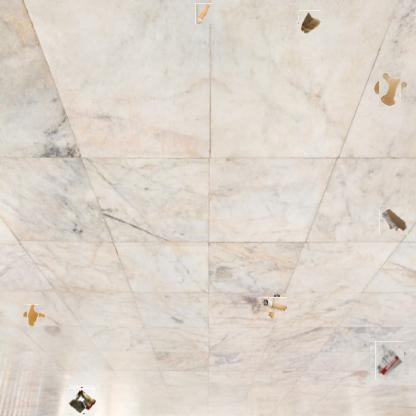dirty: (372, 344, 406, 378), (379, 207, 408, 235), (68, 387, 95, 414), (298, 10, 320, 35), (264, 295, 285, 315), (195, 3, 212, 24)
liquid: (376, 75, 405, 104), (25, 307, 42, 325)
